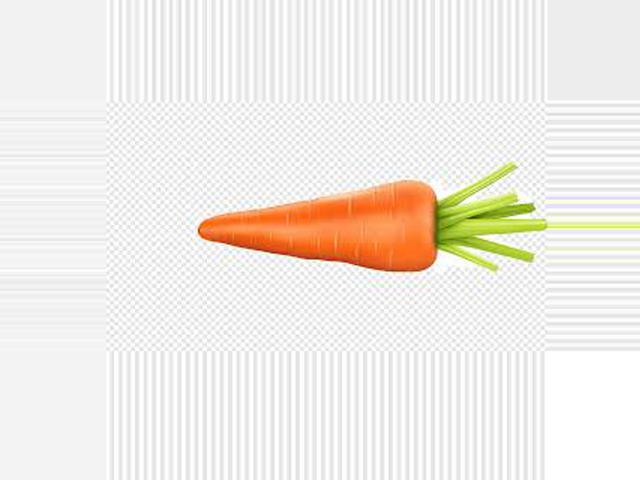carrot: (190, 166, 456, 278)
